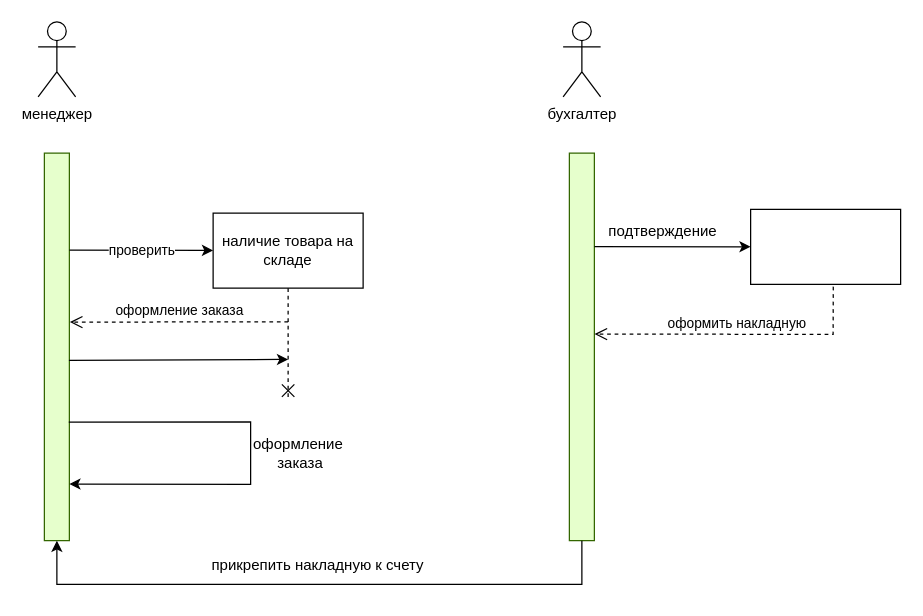
Some shapes in this 923 by 616 pixel diagram are drawn without their labels. Each missing label, with the box of its shape:
оплата клиентом: (749, 208, 901, 284)
отменить заказ: (43, 152, 69, 541)
